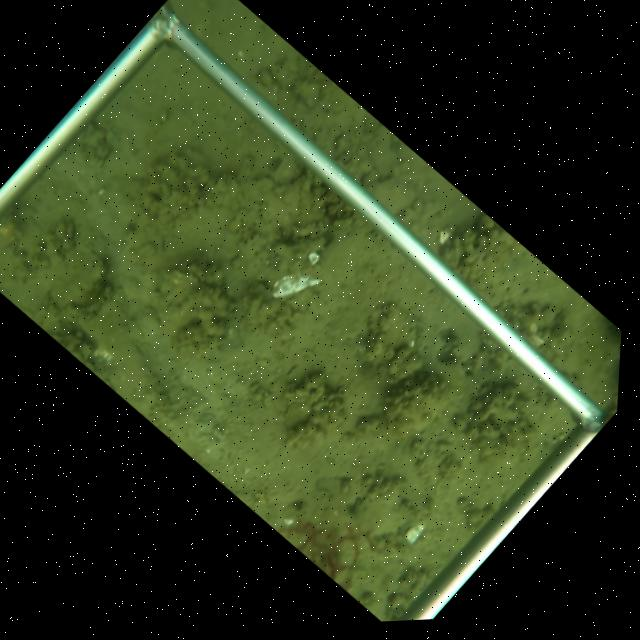Oyster-Indeterminate: (364, 179, 419, 217), (281, 400, 314, 432)
